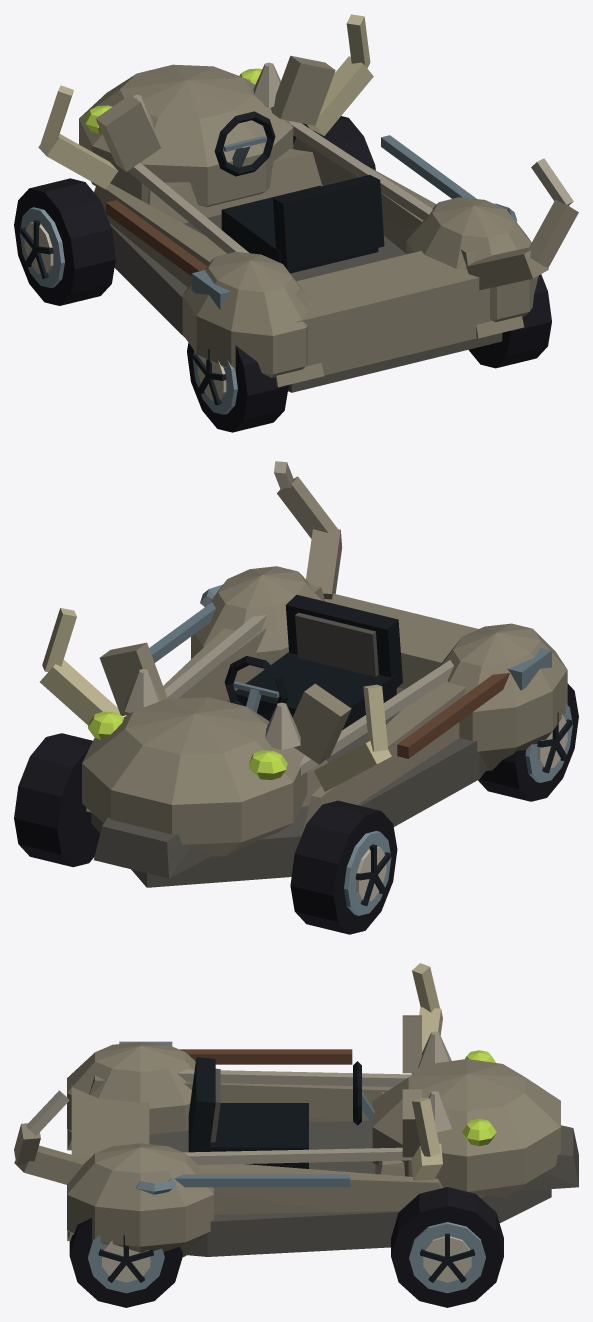
File: kart.glb
3 renders of one model, top to bottom at view 1: azimuth 30°, elevation 25°; view 2: azimuth 150°, elevation 25°; view 3: azimuth 270°, elevation 25°, orthographic. The views are drawn at different scales.
Visible parts, largest first — view 1: identity-beast-beast-sculpted-prow-and-haunches, identity-beast-driver-cockpit, wheel-front-left, identity-beast-motif-horns, wheel-rear-left, identity-beast-motif-tail, identity-beast-motif-tools, wheel-rear-right, wheel-front-right; view 2: identity-beast-beast-sculpted-prow-and-haunches, identity-beast-driver-cockpit, wheel-front-left, wheel-front-right, identity-beast-motif-horns, identity-beast-motif-tools, wheel-rear-left, identity-beast-motif-tail; view 3: identity-beast-beast-sculpted-prow-and-haunches, wheel-front-right, identity-beast-driver-cockpit, wheel-rear-right, identity-beast-motif-tools, identity-beast-motif-horns, identity-beast-motif-tail.
Boxes of the visible parts, left/top/right/bottom form: identity-beast-beast-sculpted-prow-and-haunches: left=79, top=55, right=538, bottom=392; identity-beast-driver-cockpit: left=214, top=111, right=384, bottom=273; wheel-front-left: left=14, top=178, right=115, bottom=305; identity-beast-motif-horns: left=38, top=14, right=373, bottom=189; wheel-rear-left: left=187, top=343, right=288, bottom=432; identity-beast-motif-tail: left=466, top=158, right=578, bottom=290; identity-beast-motif-tools: left=106, top=135, right=517, bottom=309; wheel-rear-right: left=468, top=274, right=551, bottom=368; wheel-front-right: left=293, top=116, right=375, bottom=170; identity-beast-beast-sculpted-prow-and-haunches: left=82, top=566, right=567, bottom=887; identity-beast-driver-cockpit: left=224, top=594, right=402, bottom=729; wheel-front-left: left=290, top=800, right=397, bottom=934; wheel-front-right: left=14, top=733, right=100, bottom=867; identity-beast-motif-horns: left=40, top=608, right=391, bottom=791; identity-beast-motif-tools: left=149, top=584, right=551, bottom=758; wheel-rear-left: left=478, top=683, right=578, bottom=801; identity-beast-motif-tail: left=274, top=461, right=342, bottom=599; identity-beast-beast-sculpted-prow-and-haunches: left=67, top=1015, right=578, bottom=1256; wheel-front-right: left=391, top=1187, right=503, bottom=1307; identity-beast-driver-cockpit: left=188, top=1057, right=374, bottom=1168; wheel-rear-right: left=69, top=1218, right=182, bottom=1307; identity-beast-motif-tools: left=119, top=1041, right=352, bottom=1194; identity-beast-motif-horns: left=411, top=963, right=442, bottom=1180; identity-beast-motif-tail: left=14, top=1090, right=87, bottom=1184.
Bounding box in the file's own units: 2.01 × 1.3 × 3.2.
